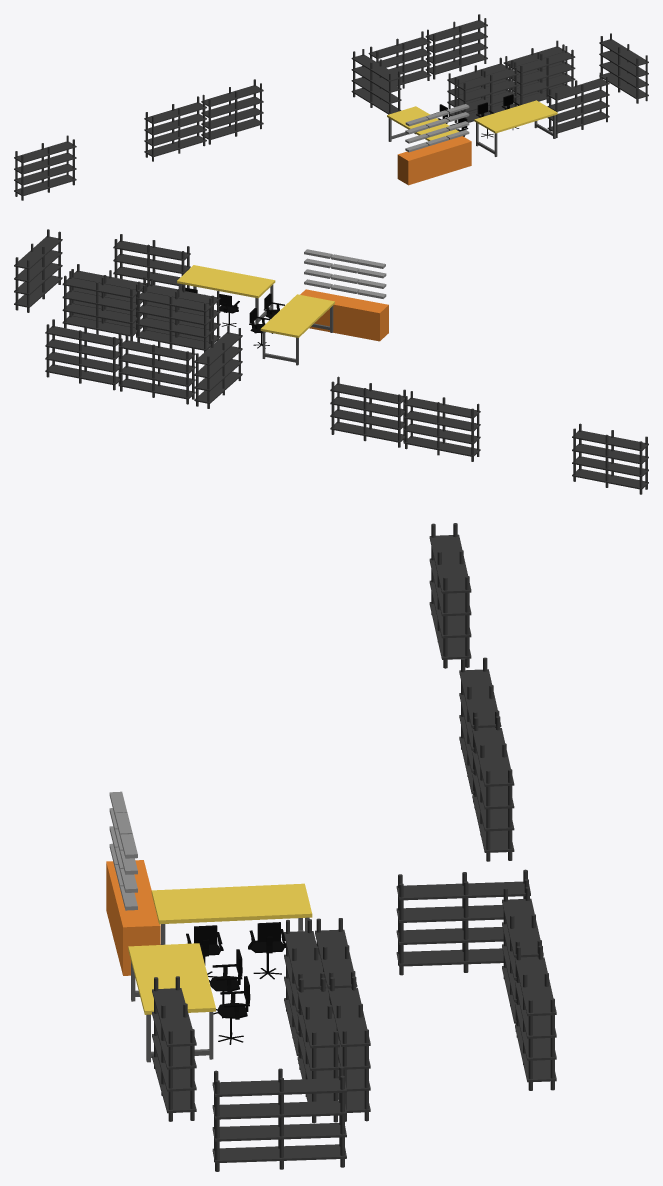
File: Basement_Right.fbx
The picture shows the model from 3 angles, top to bottom: view 1: azimuth 30°, elevation 25°; view 2: azimuth 150°, elevation 25°; view 3: azimuth 270°, elevation 25°; orthographic projection. The views are drawn at different scales.
Visible parts, largest first — view 1: BasementFurniture2; view 2: BasementFurniture2; view 3: BasementFurniture2.
Part boxes in pixels (bbox=[...]): BasementFurniture2: bbox=[14, 14, 648, 200]; BasementFurniture2: bbox=[14, 229, 648, 494]; BasementFurniture2: bbox=[106, 523, 556, 1171].
Size of the model in its own units: 1956 by 197 by 665.
